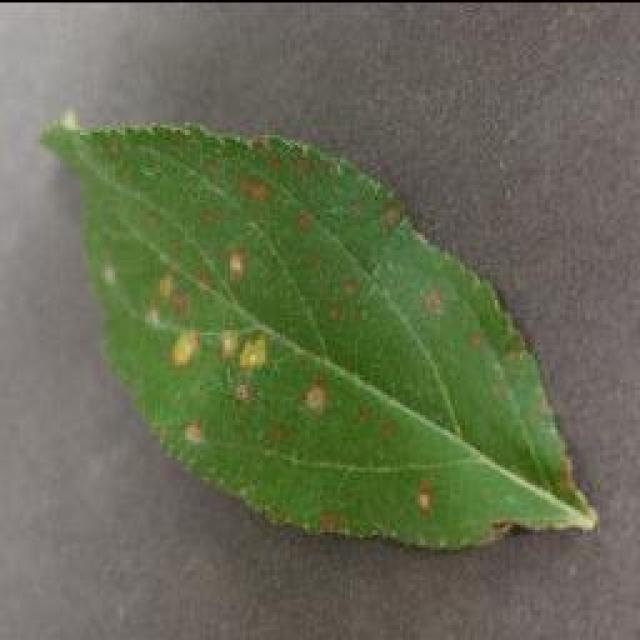apple cedar apple rust: (38, 108, 600, 552)
